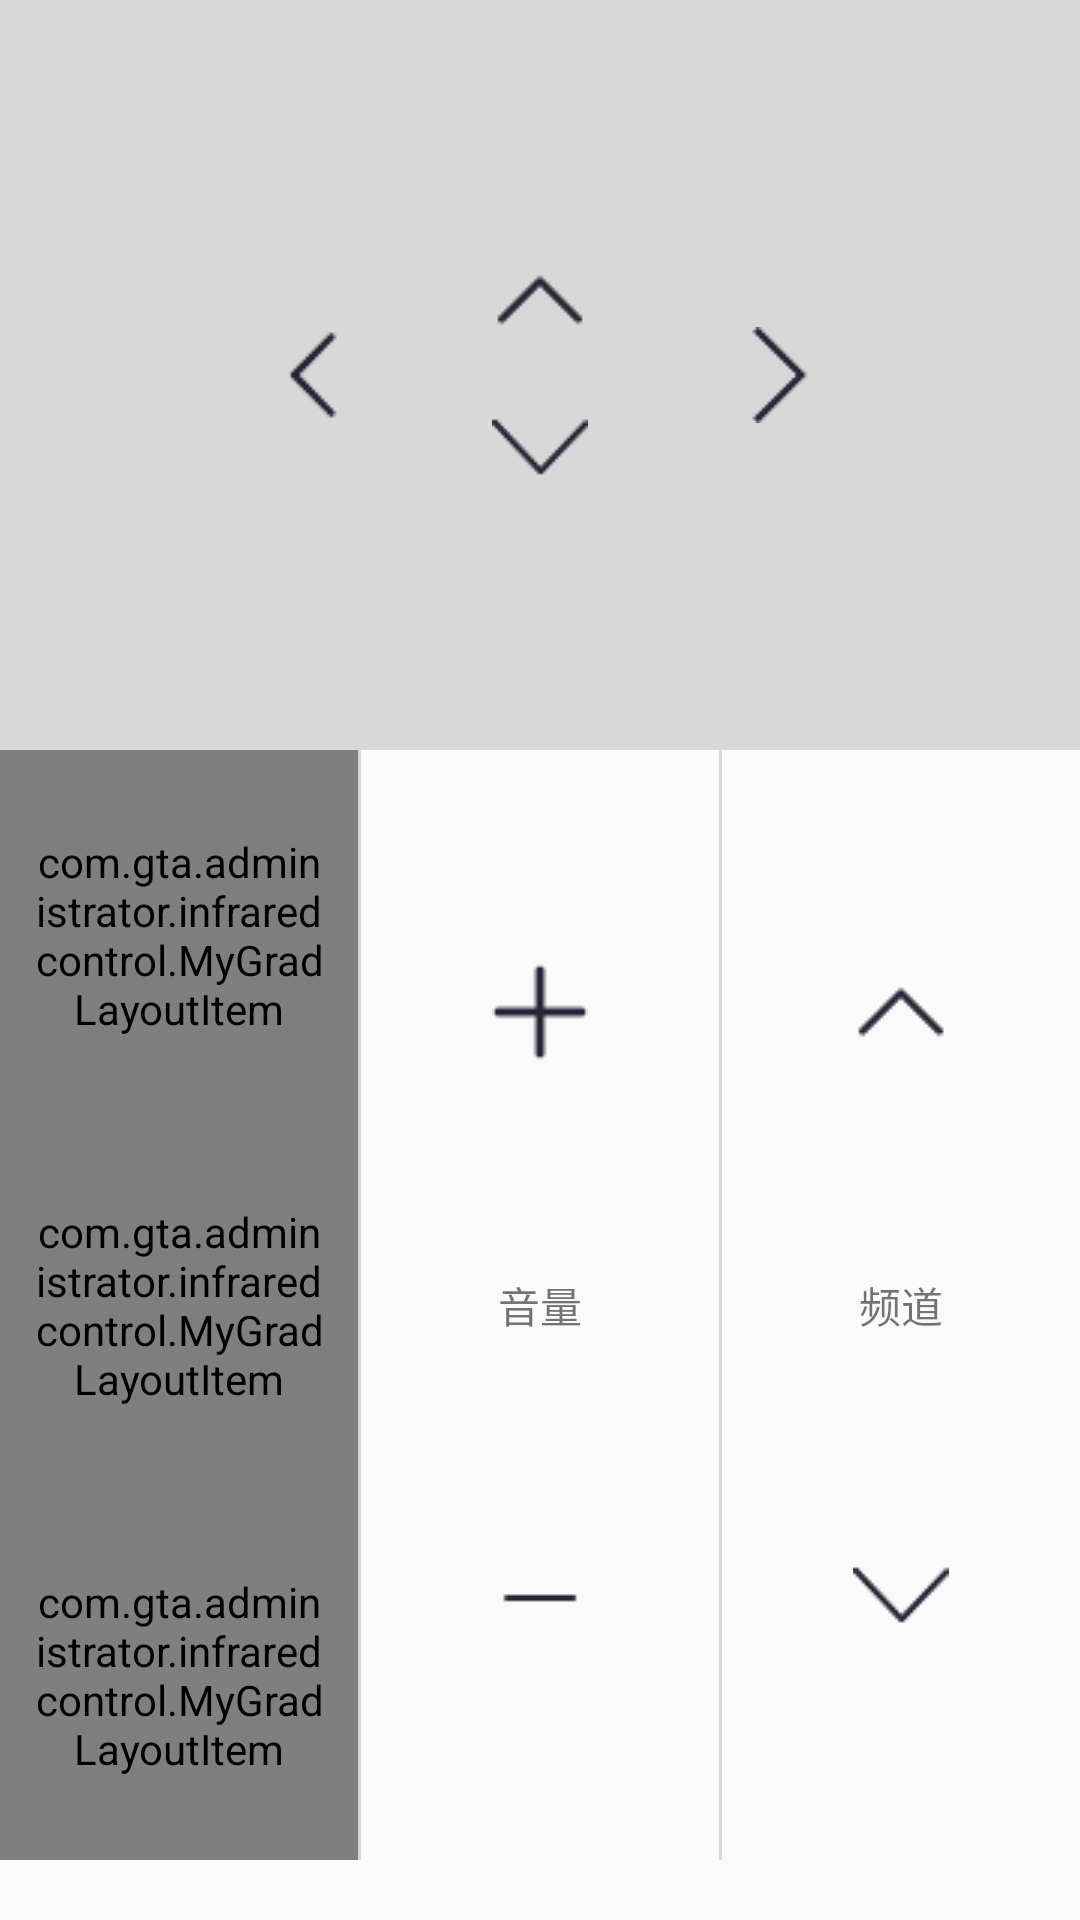

Named icons in this screenshot (1080×1920) and their centers, (x=x, y=y):
down: (x=540, y=447), (x=901, y=1595)
left: (x=313, y=375)
plus: (x=540, y=1012)
right: (x=779, y=375)
